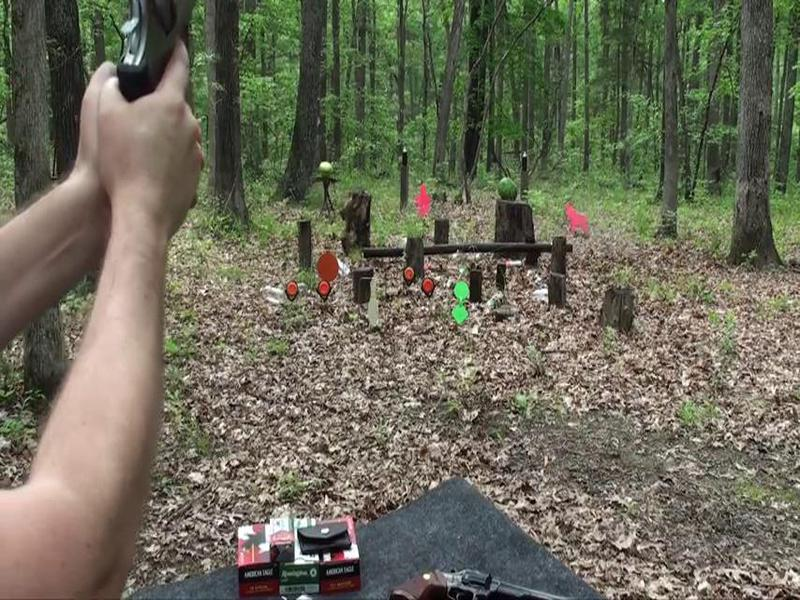Revolver: (356, 547, 558, 600)
